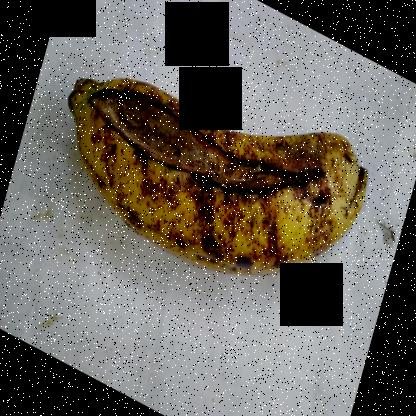rotten: (75, 66, 328, 237)
